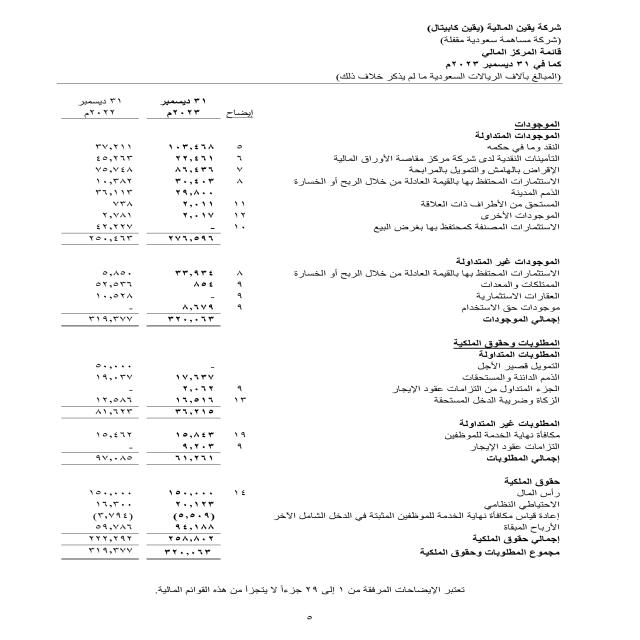financial_sheets: (477, 48, 570, 61)
table: (34, 86, 270, 573)
